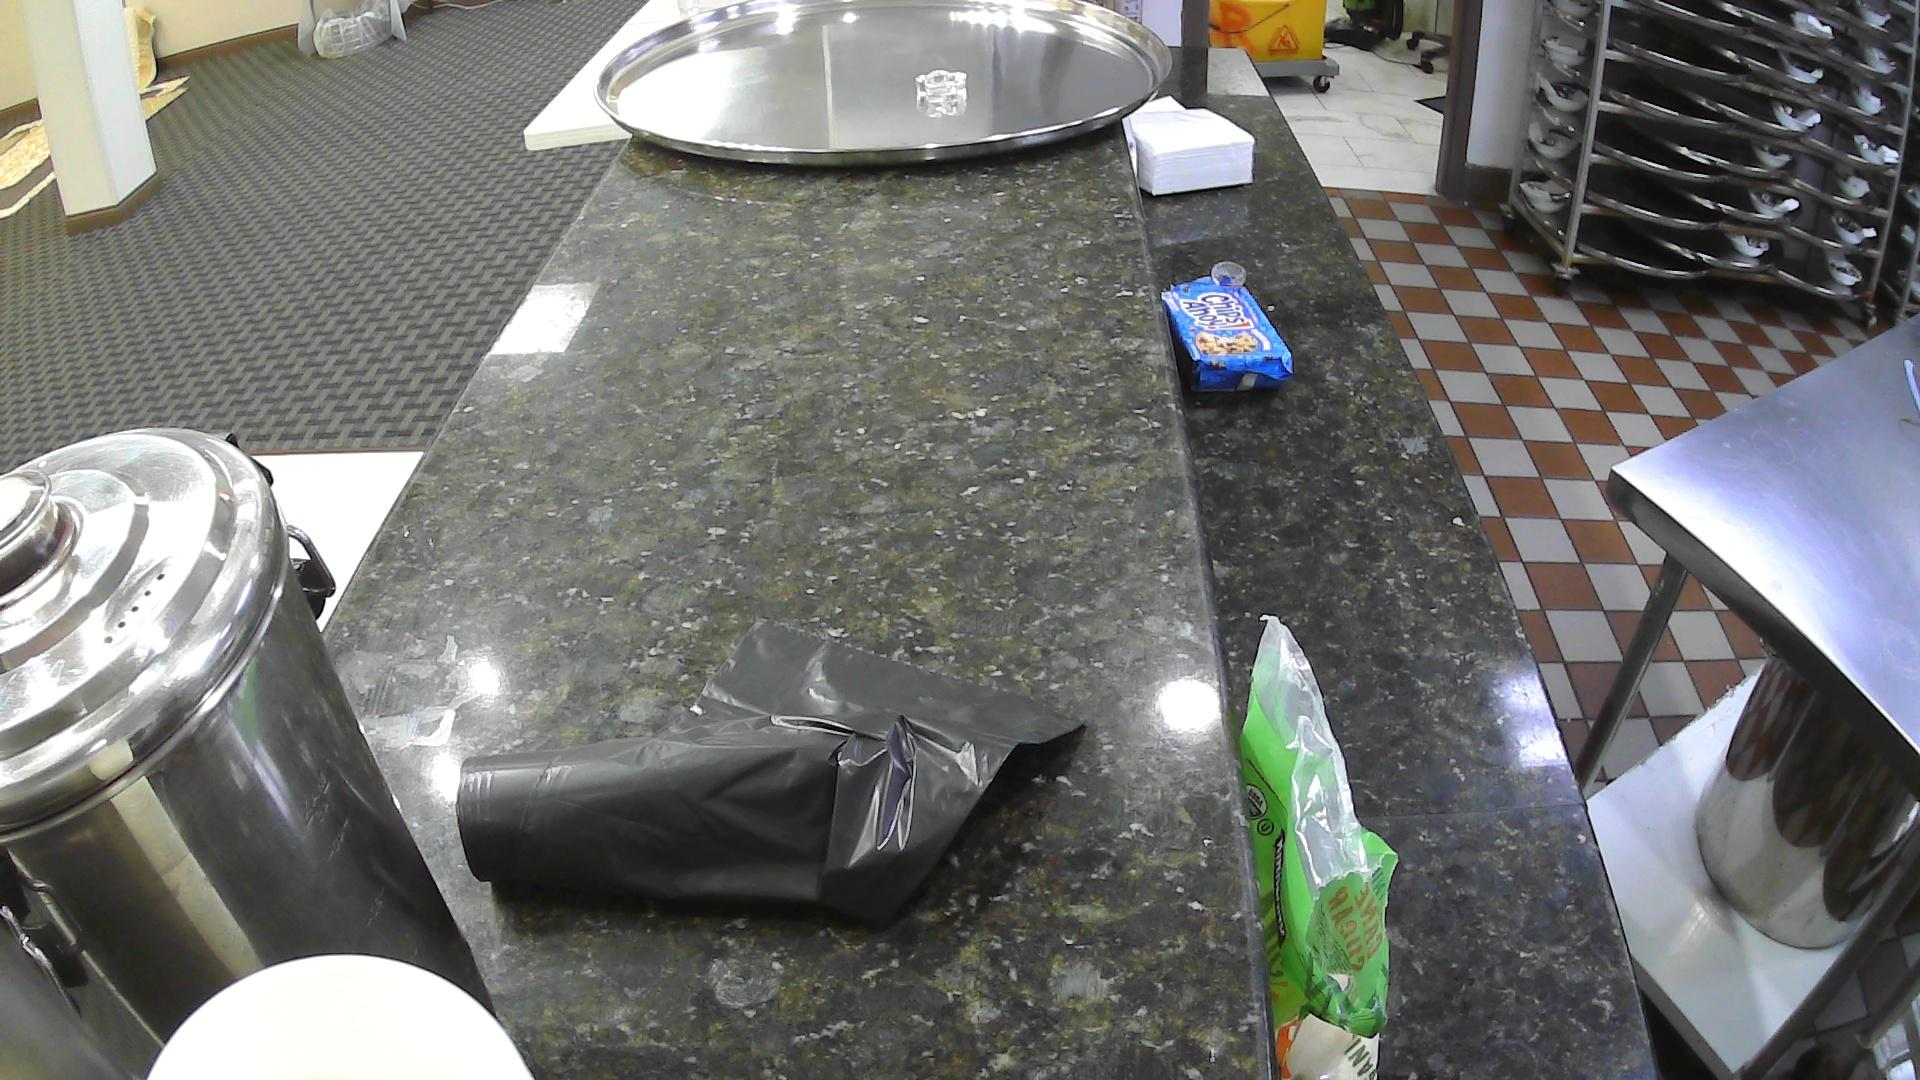thaal: (593, 0, 1175, 170)
